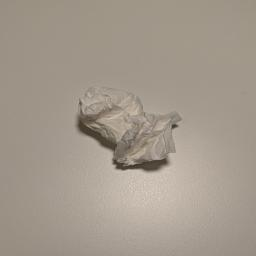Paper: (79, 86, 176, 162)
